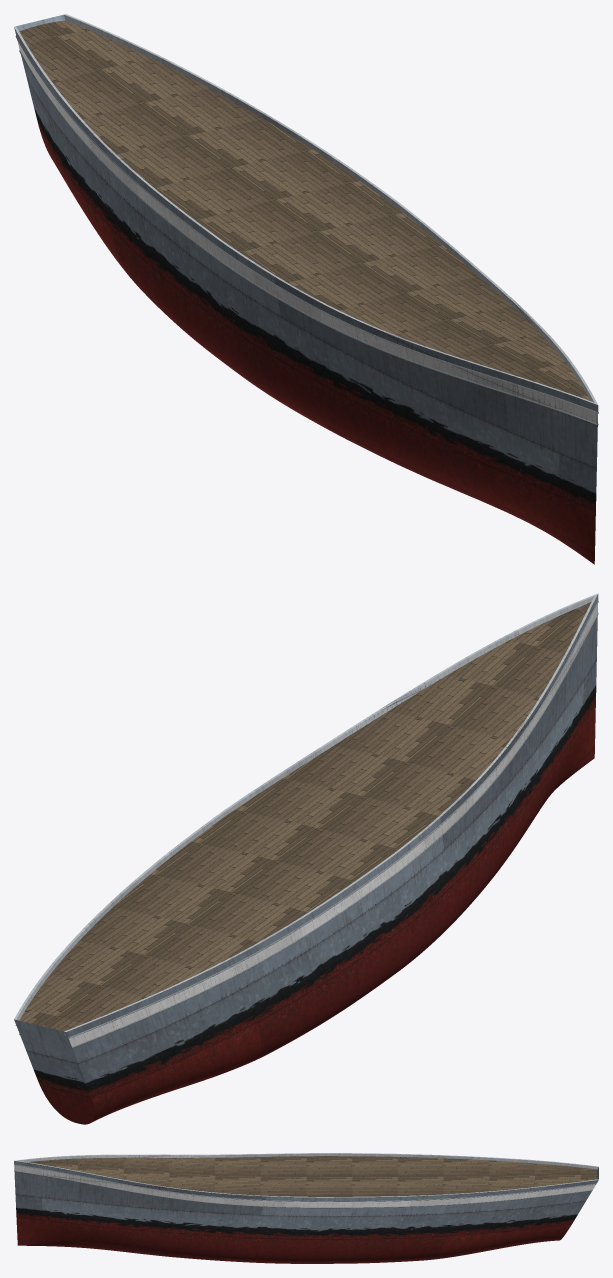
The model's file is dreadnought_hull.glb.
3 renders of one model, top to bottom at view 1: azimuth 30°, elevation 25°; view 2: azimuth 150°, elevation 25°; view 3: azimuth 270°, elevation 25°, orthographic. The views are drawn at different scales.
Visible parts, largest first — view 1: hull, deck, trim, team; view 2: deck, hull, trim, team; view 3: hull, deck, trim, team.
Part boxes in pixels (left/top/right/bottom): hull: left=14, top=14, right=598, bottom=564; deck: left=19, top=20, right=590, bottom=400; trim: left=14, top=14, right=598, bottom=424; team: left=17, top=40, right=597, bottom=424; deck: left=19, top=601, right=591, bottom=1031; hull: left=14, top=594, right=598, bottom=1124; trim: left=14, top=593, right=598, bottom=1047; team: left=68, top=604, right=597, bottom=1046; hull: left=14, top=1161, right=598, bottom=1263; deck: left=27, top=1156, right=597, bottom=1196; trim: left=14, top=1153, right=598, bottom=1208; team: left=14, top=1165, right=595, bottom=1207.
Size of the model in its own units: 4.64 by 4.32 by 25.6.
4 materials, 4 textured.
